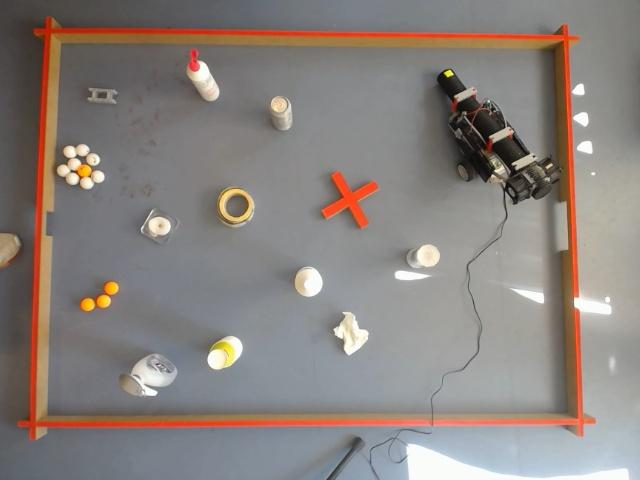orange: (80, 297, 95, 312), (78, 164, 93, 178), (97, 295, 111, 309), (104, 282, 119, 295)
robot: (437, 69, 563, 206)
robot-front: (441, 69, 455, 80)
white: (62, 144, 75, 159), (75, 144, 89, 157), (80, 177, 93, 190), (68, 158, 81, 171), (66, 173, 80, 185), (57, 165, 70, 177), (92, 171, 105, 183), (87, 154, 100, 166)
